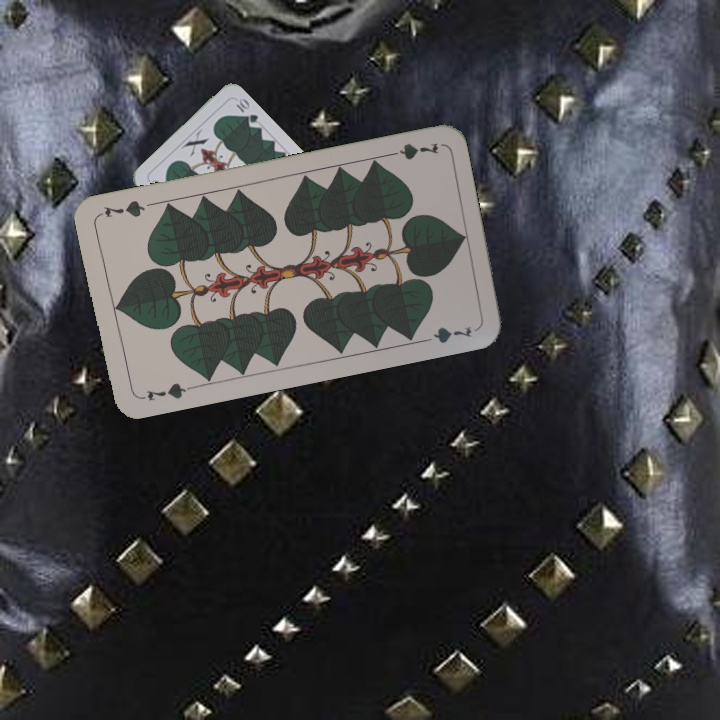G7: (382, 138, 441, 163), (135, 379, 194, 404)
